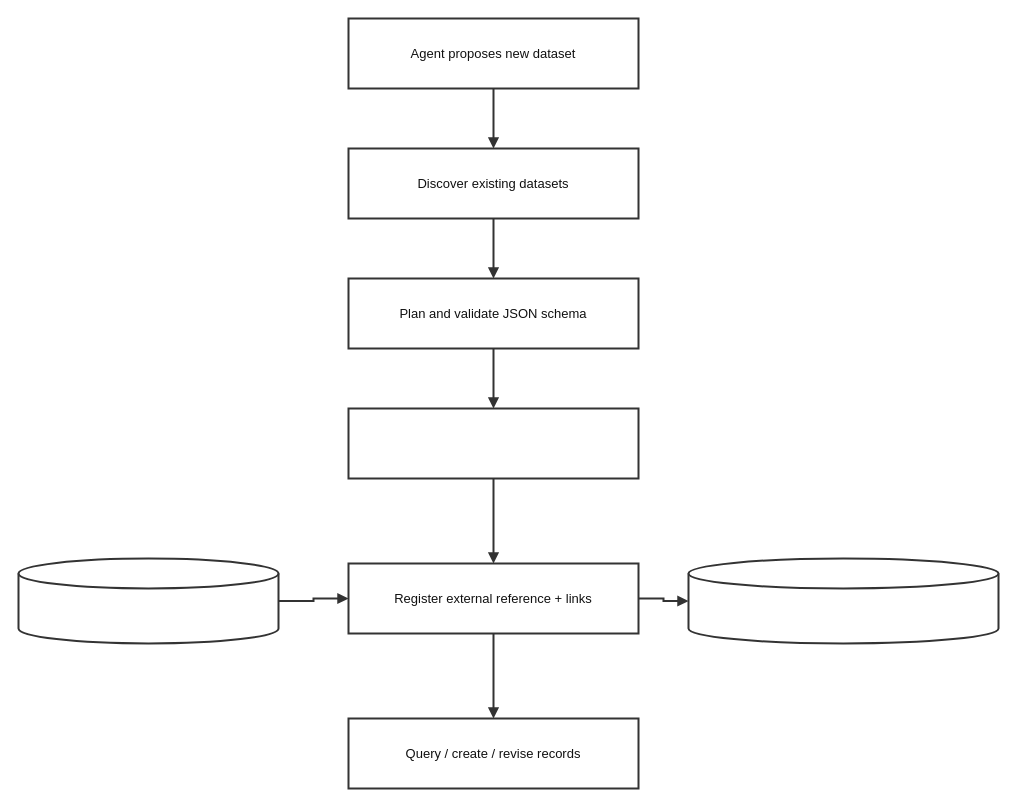
The diagram is 1016 pixels wide and 806 high, and some of its shapes have lost their labels. Here are the shapes that lost their labels. From the top down, the centre of each, then its label:
At point 493,443: "Authorized dataset_create".
At point 148,600: "Basic Memory technical/rules note".
At point 843,600: "SQLite dataset registry and records".
